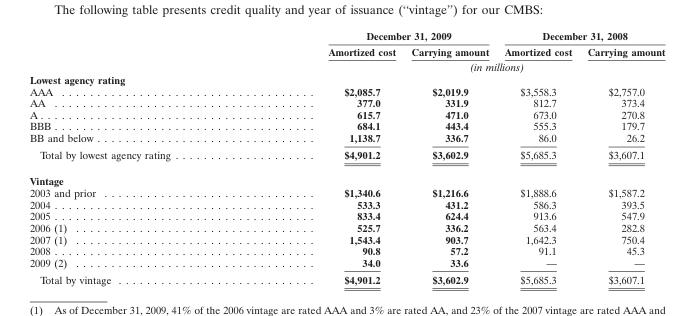table: (28, 29, 664, 285)
table column: (28, 29, 248, 285), (248, 29, 403, 285), (403, 29, 496, 285), (579, 29, 664, 285), (496, 29, 579, 285)
table column header: (28, 29, 664, 72)
table projected row header: (28, 167, 664, 186), (28, 72, 664, 85)
table row: (28, 145, 664, 167), (28, 167, 664, 186), (28, 43, 664, 58), (28, 270, 664, 285), (28, 29, 664, 43), (28, 58, 664, 72), (28, 131, 664, 145), (28, 256, 664, 270), (28, 72, 664, 85), (28, 96, 664, 108), (28, 108, 664, 120), (28, 186, 664, 198), (28, 209, 664, 221), (28, 221, 664, 233), (28, 244, 664, 256), (28, 85, 664, 96), (28, 120, 664, 131), (28, 198, 664, 209), (28, 233, 664, 244)
table spanning cell: (248, 58, 664, 72), (248, 29, 496, 43), (496, 29, 664, 43)
